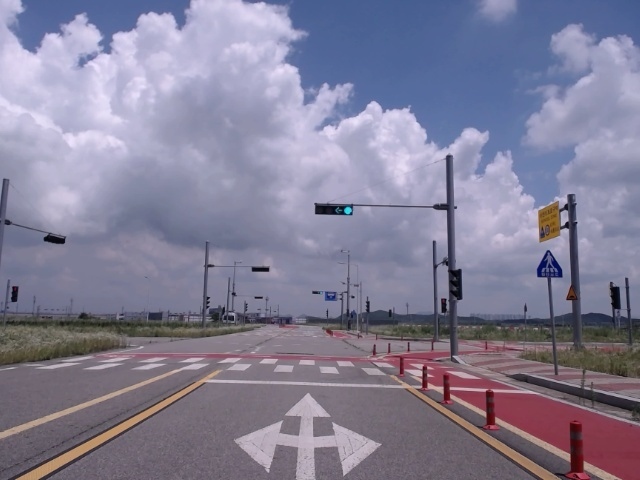all_green_4: (314, 202, 351, 216)
